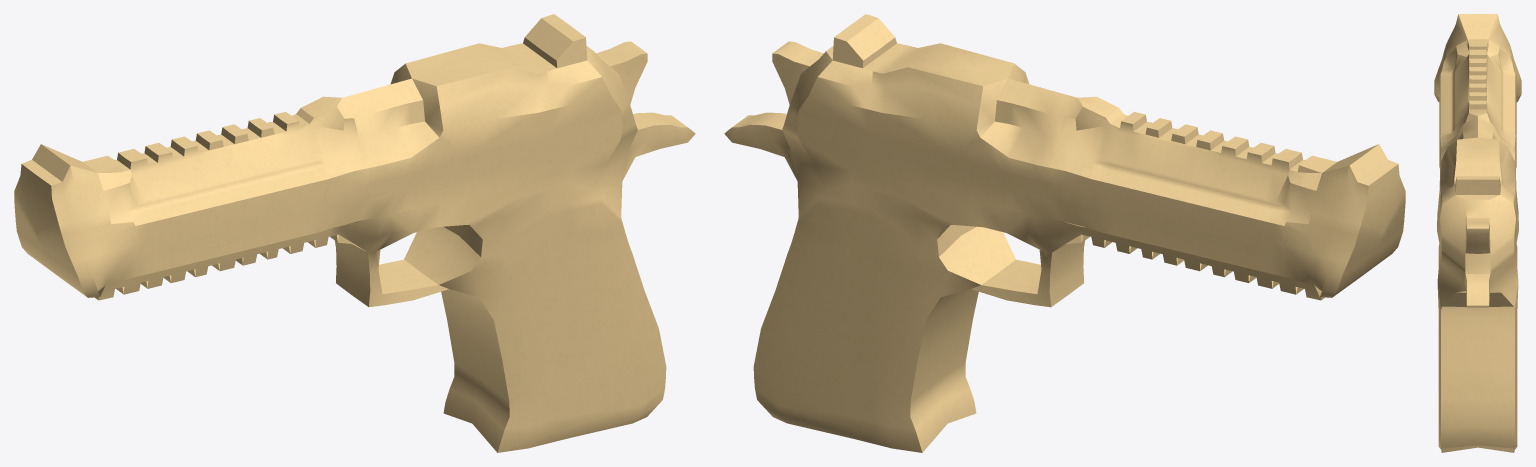
File: dg2_gold2.fbx
3 views of the same model, side by side, from view 1: azimuth 30°, elevation 25°; view 2: azimuth 150°, elevation 25°; view 3: azimuth 270°, elevation 25° (orthographic). The views are drawn at different scales.
Parts seen in each view (by area): view 1: Cube; view 2: Cube; view 3: Cube.
Part boxes in pixels (x1=…): Cube: x1=14, y1=14, x2=695, y2=452; Cube: x1=724, y1=14, x2=1405, y2=452; Cube: x1=1434, y1=14, x2=1521, y2=452.
Size of the model in its own units: 15.58 by 8.81 by 2.7.
1 material, 1 textured.
